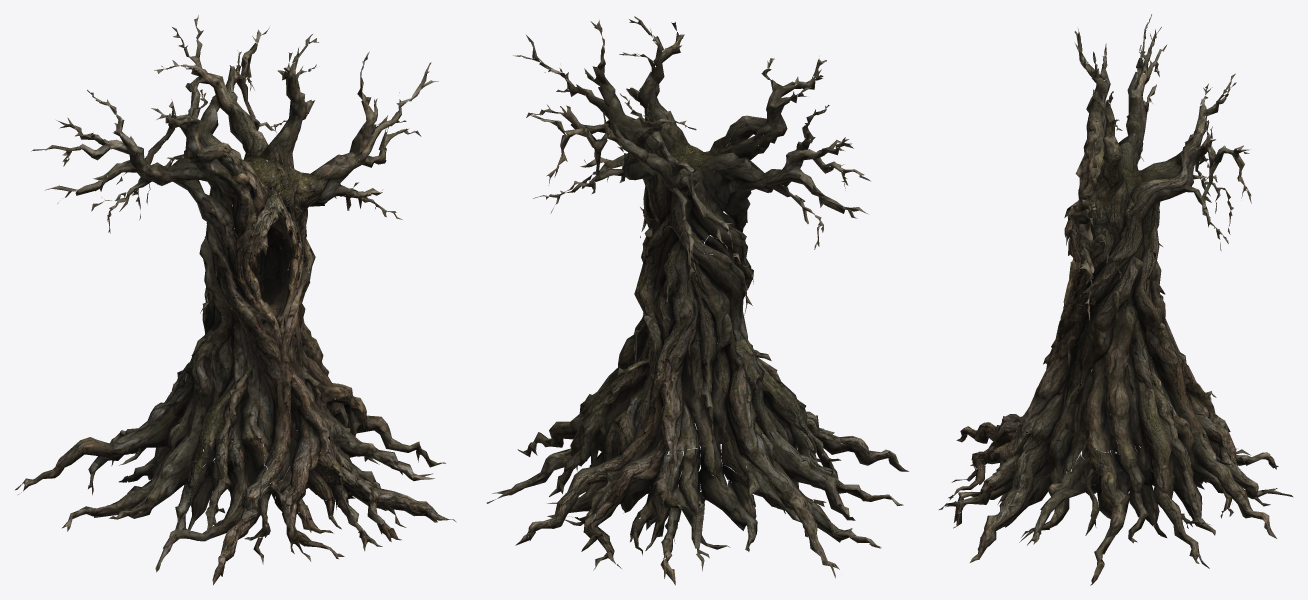
The model's file is tree_body.fbx.
3 renders of one model, left to right at view 1: azimuth 30°, elevation 25°; view 2: azimuth 150°, elevation 25°; view 3: azimuth 270°, elevation 25°, orthographic. The views are drawn at different scales.
Parts seen in each view (by area): view 1: Part; view 2: Part; view 3: Part.
Boxes of the visible parts, x1=… form: Part: x1=15, y1=15, x2=456, y2=585; Part: x1=486, y1=16, x2=908, y2=585; Part: x1=939, y1=14, x2=1293, y2=585.
Size of the model in its own units: 9.72 by 11.2 by 8.21.
